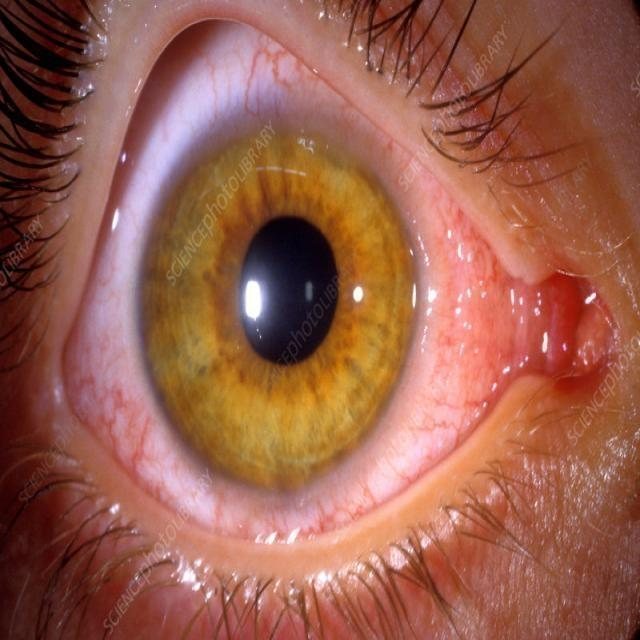Conjunctivitis: (36, 75, 608, 538)
